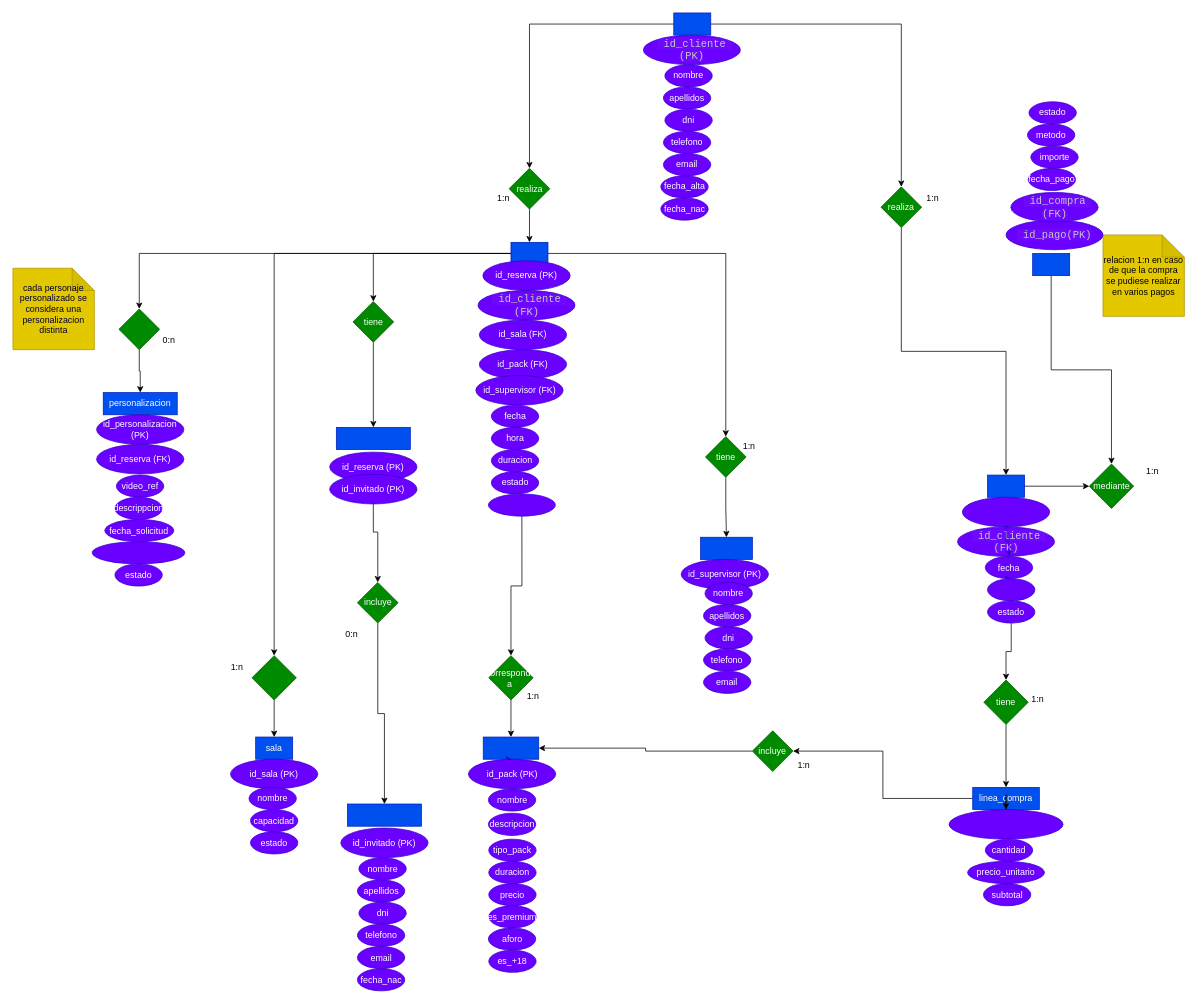
Some shapes in this 1197 by 1004 pixel diagram are drawn without their labels. The shapes that lost their labels are listed below. From the top down, each one's centre as x and y in pixels, then its label:
At pixel 692 23: "cliente".
At pixel 529 253: "reserva".
At pixel 1051 264: "pago".
At pixel 139 329: "puede tener".
At pixel 373 438: "reserva_invitado".
At pixel 521 504: "es_confirmado".
At pixel 1006 485: "compra".
At pixel 1006 512: "id_compra (PK)".
At pixel 138 552: "fecha_aprobacion".
At pixel 726 547: "supervisor".
At pixel 1011 589: "total".
At pixel 273 677: "ocurre en".
At pixel 510 747: "pack".
At pixel 384 814: "invitado".
At pixel 1005 824: "id_compra, id_pack (PK)".
